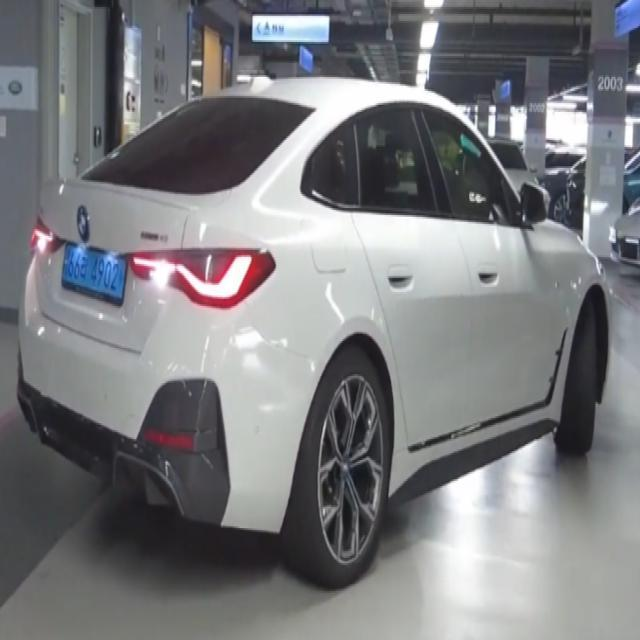car: (51, 225, 152, 324)
carev: (117, 251, 132, 308), (59, 237, 71, 287)
